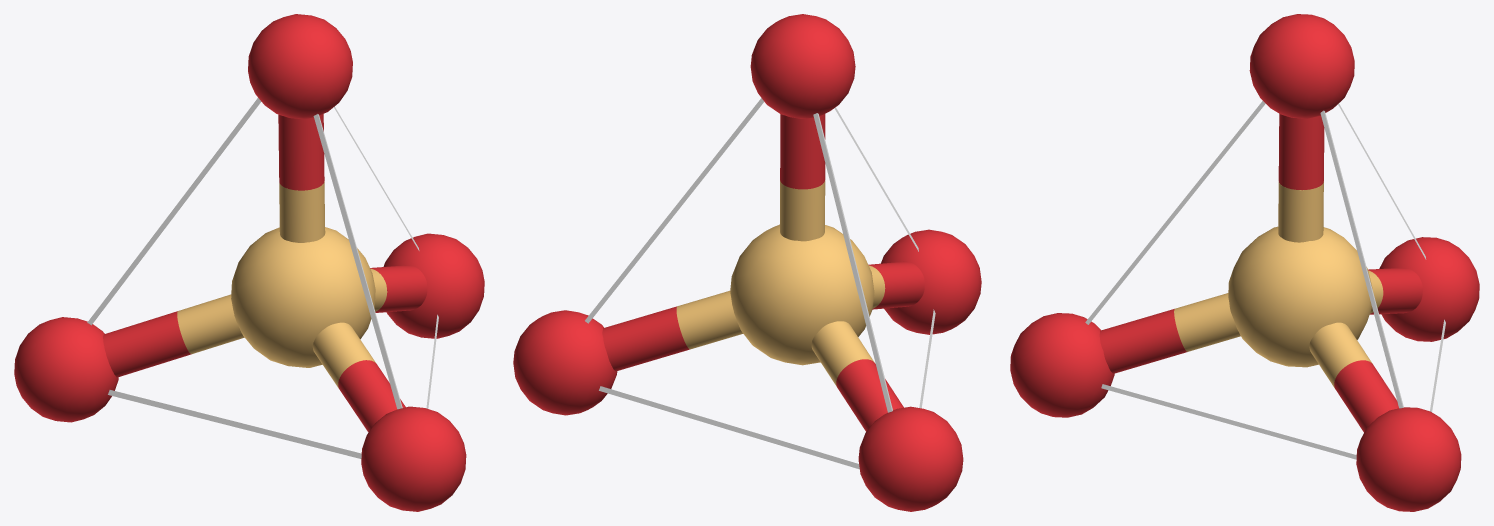
3 renders of one model, left to right at view 1: azimuth 30°, elevation 25°; view 2: azimuth 150°, elevation 25°; view 3: azimuth 270°, elevation 25°, orthographic.
Parts seen in each view (by area): view 1: Shape_IndexedFaceSet.017, Cone; view 2: Shape_IndexedFaceSet.017, Cone; view 3: Shape_IndexedFaceSet.017, Cone.
Boxes of the visible parts, x1,y1,x2,y2 form: Shape_IndexedFaceSet.017: [14, 14, 484, 511]; Cone: [87, 98, 438, 458]; Shape_IndexedFaceSet.017: [513, 14, 981, 511]; Cone: [585, 98, 935, 469]; Shape_IndexedFaceSet.017: [1010, 14, 1479, 511]; Cone: [1085, 101, 1445, 459].
Size of the model in its own units: 4.75 by 4.08 by 4.33.
